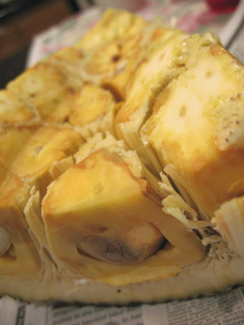jackfruit: (0, 9, 242, 310)
